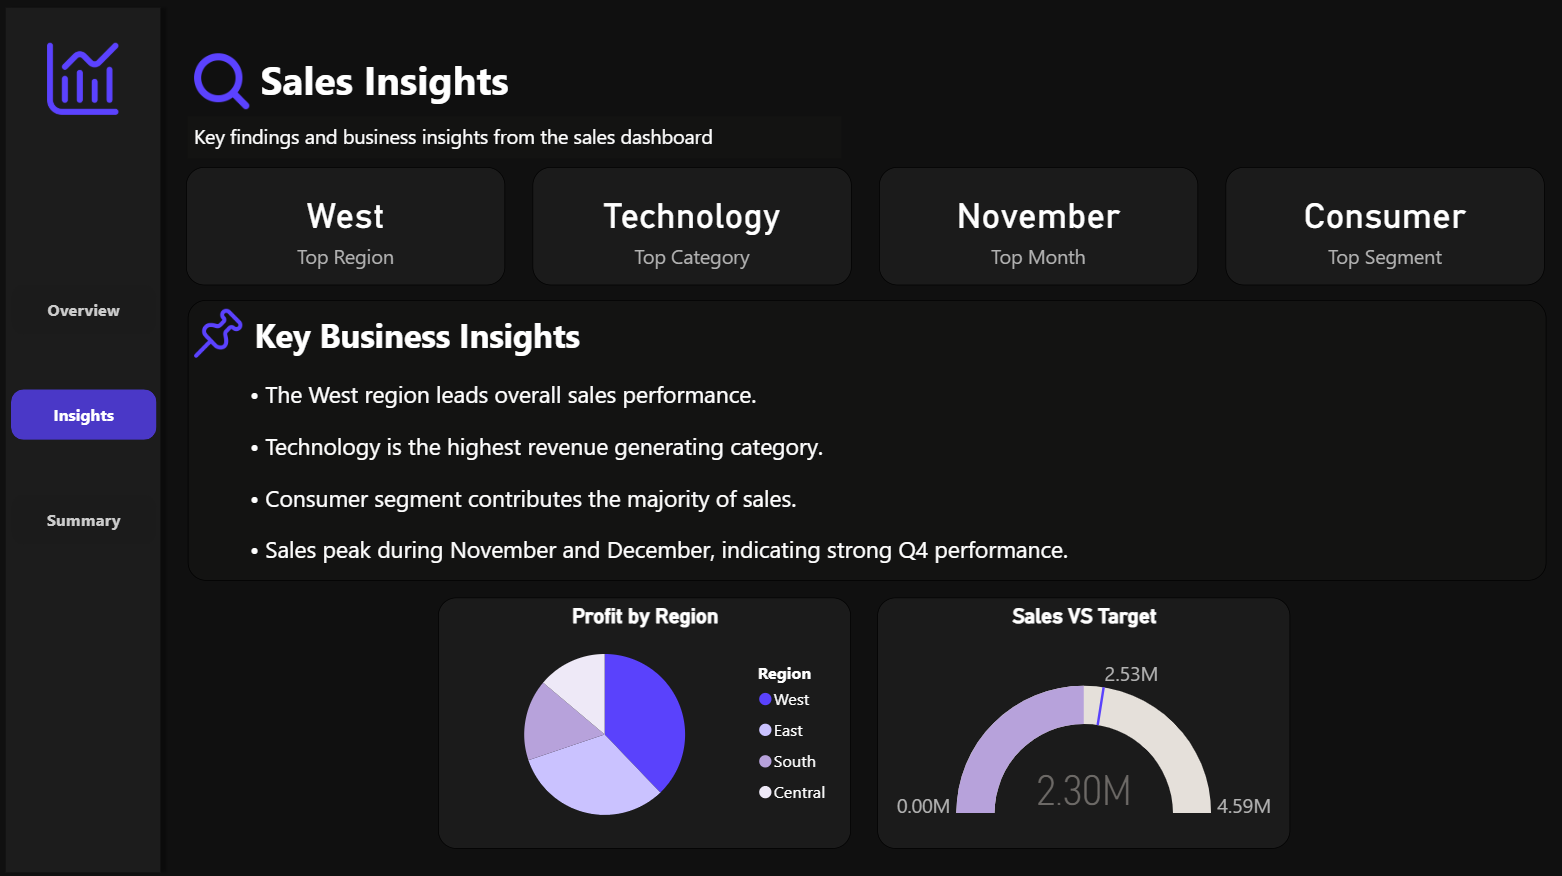

The page's visual inventory and layout, read from the dashboard file:
{"tool":"powerbi","page":{"name":"Insights","canvas":[1280,720],"ordinal":1},"visuals":[{"type":"textbox","box":[210.7,38.4,220.7,58.4],"z":0},{"type":"shape","box":[0,0,140.4,720],"z":1000},{"type":"actionButton","box":[10.8,232.2,118.8,41.4],"z":2000},{"type":"actionButton","box":[10.8,318.6,118.8,41.4],"z":3000},{"type":"actionButton","box":[10.8,405,118.8,41.4],"z":4000},{"type":"textbox","box":[155.2,95.4,533.8,34.2],"z":5000},{"type":"card","fields":{"Values":["cleaned_superstore.Top Region"]},"box":[154.4,137.1,260.5,96.8],"z":6000},{"type":"card","fields":{"Values":["cleaned_superstore.Top Category"]},"box":[437.6,137.1,260.5,96.8],"z":7000},{"type":"card","fields":{"Values":["cleaned_superstore.Top Month"]},"box":[719.5,137.1,260.5,96.8],"z":8000},{"type":"card","fields":{"Values":["cleaned_superstore.Top Segment"]},"box":[1002.8,137.1,260.5,96.8],"z":9000},{"type":"textbox","box":[155.2,246.3,1109,229.2],"z":10000},{"type":"pieChart","title":"Profit by Region","fields":{"Category":["cleaned_superstore.region"],"Y":["Sum(cleaned_superstore.profit)"]},"box":[360.2,488.3,337.4,205],"z":11000},{"type":"gauge","title":"Sales VS Target","fields":{"Y":["Sum(cleaned_superstore.sales)"],"TargetValue":["cleaned_superstore.Sales Target"]},"box":[718.9,488.3,337.4,205],"z":12000},{"type":"image","box":[155.2,44.1,55.5,45.6],"z":13000},{"type":"image","box":[155.2,253.4,49.8,39.9],"z":14000},{"type":"image","box":[21.4,35.7,97.1,58.6],"z":15000}]}

Visuals, with their boxes on the page's 1280x720 design canvas (x1, y1, x2, y2). These are canvas units, not pixel positions in the 1562x876 screenshot, which may show the page scaled, cropped or inside an application window:
textbox: <region>211, 38, 431, 97</region>
shape: <region>0, 0, 140, 720</region>
actionButton: <region>11, 232, 130, 274</region>
actionButton: <region>11, 319, 130, 360</region>
actionButton: <region>11, 405, 130, 446</region>
textbox: <region>155, 95, 689, 130</region>
card - cleaned_superstore.Top Region: <region>154, 137, 415, 234</region>
card - cleaned_superstore.Top Category: <region>438, 137, 698, 234</region>
card - cleaned_superstore.Top Month: <region>720, 137, 980, 234</region>
card - cleaned_superstore.Top Segment: <region>1003, 137, 1263, 234</region>
textbox: <region>155, 246, 1264, 476</region>
"Profit by Region" pieChart: <region>360, 488, 698, 693</region>
"Sales VS Target" gauge: <region>719, 488, 1056, 693</region>
image: <region>155, 44, 211, 90</region>
image: <region>155, 253, 205, 293</region>
image: <region>21, 36, 118, 94</region>
